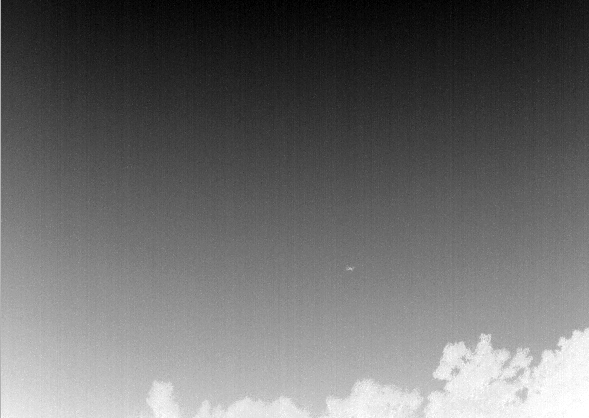dim target: (345, 265, 355, 272)
